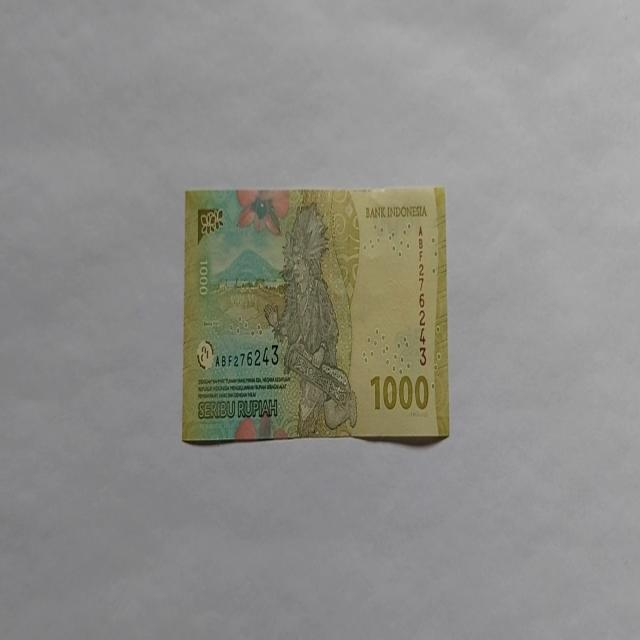seribu rupiah kertas: (180, 183, 450, 444)
